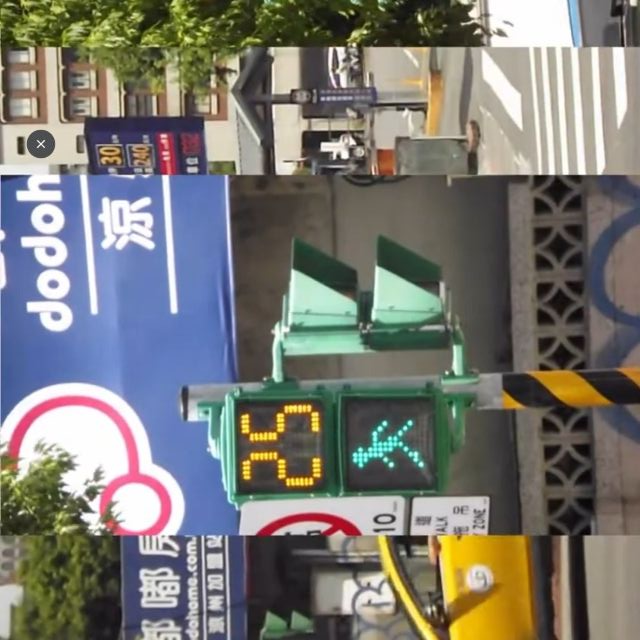green_light: (226, 391, 452, 493)
